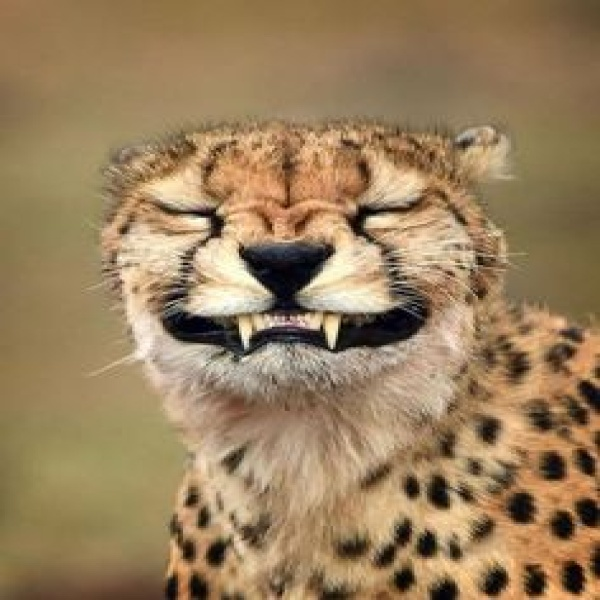Cheetah: (98, 119, 600, 599)
